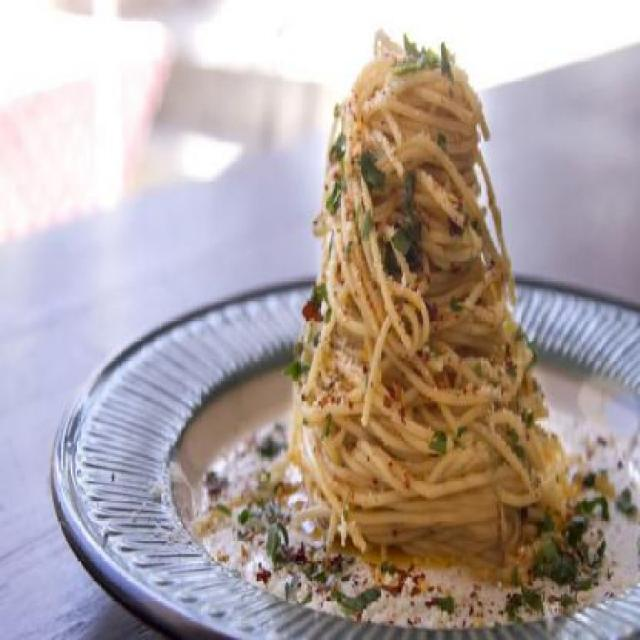Oil pasta: (269, 12, 602, 586)
